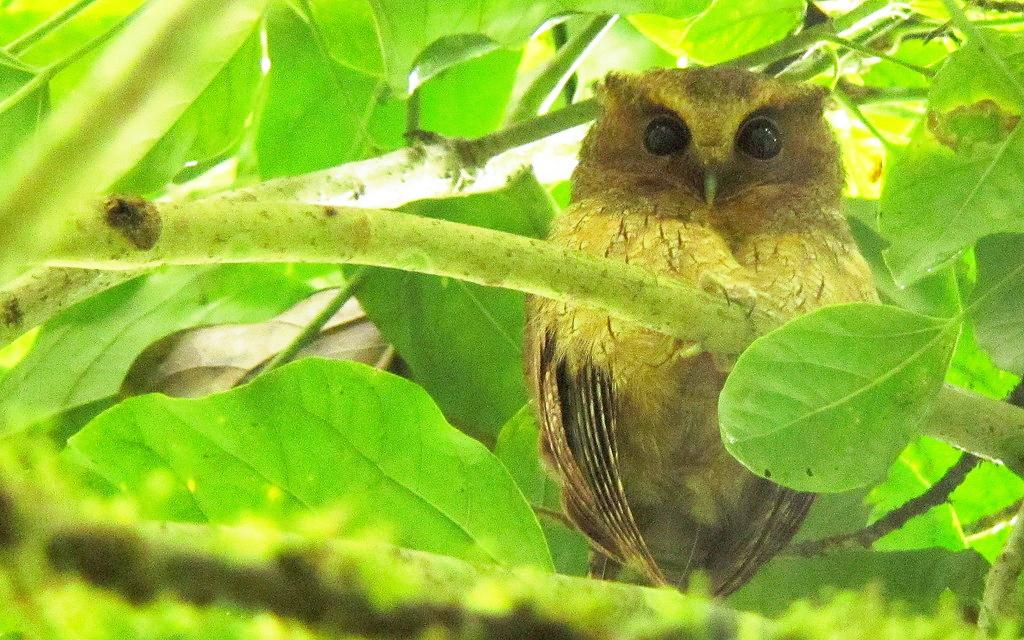Owl: (526, 61, 880, 604)
